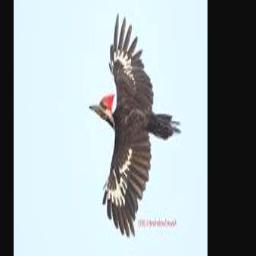Woodpecker: (90, 12, 182, 235)
